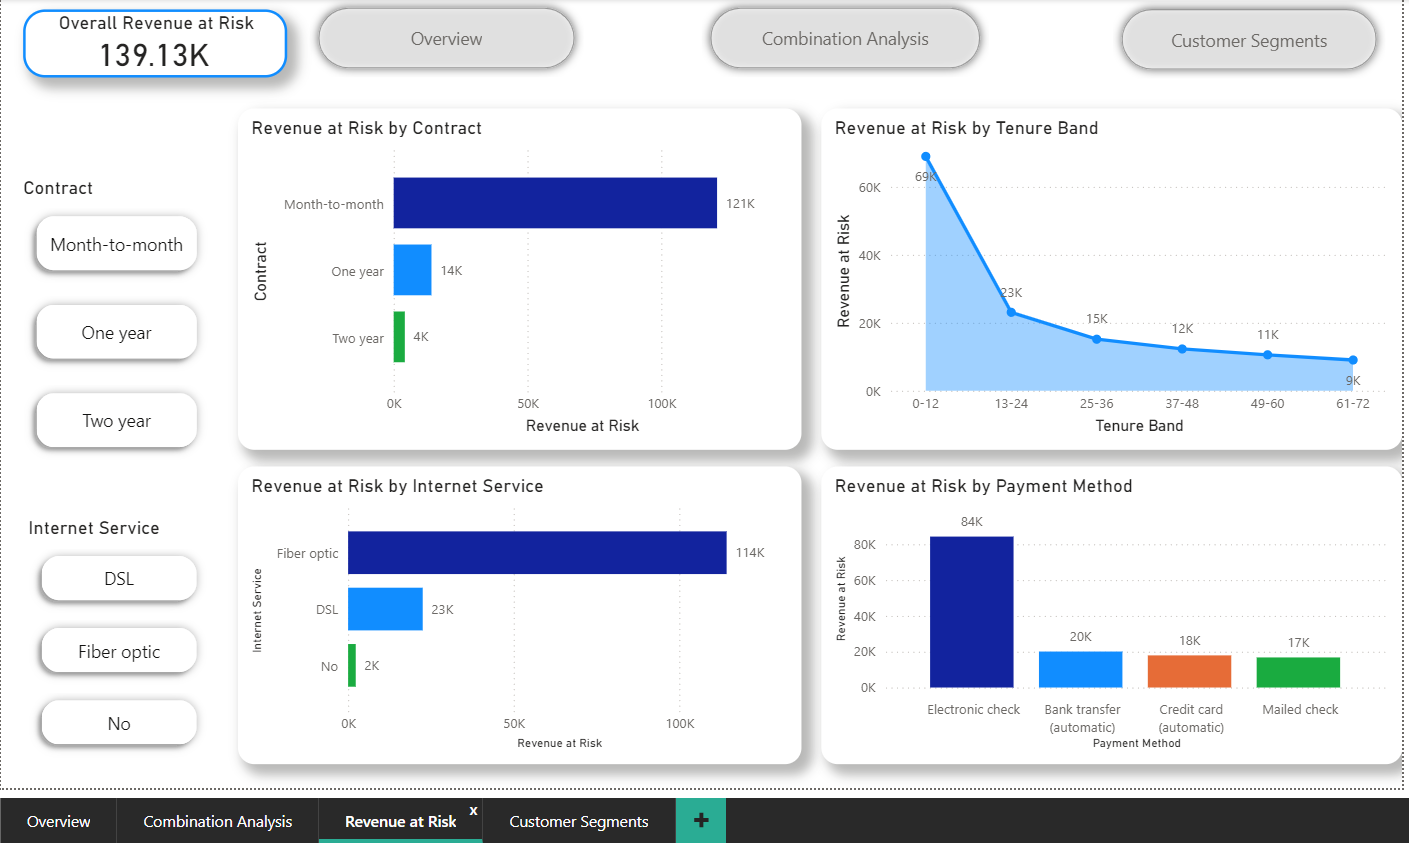

The page's visual inventory and layout, read from the dashboard file:
{"tool":"powerbi","page":{"name":"Revenue at Risk","canvas":[1280,720],"ordinal":2},"visuals":[{"type":"barChart","title":"Revenue at Risk by Contract","fields":{"Category":["TELCO Churn.Contract"],"Y":["_Measures.Revenue at Risk"]},"box":[216.4,100.3,514.7,311.5],"z":0},{"type":"barChart","title":"Revenue at Risk by Internet Service","fields":{"Category":["TELCO Churn.Internet Service"],"Y":["_Measures.Revenue at Risk"]},"box":[216.4,426.3,514.7,271.9],"z":1000},{"type":"areaChart","title":"Revenue at Risk by Tenure Band","fields":{"Category":["TELCO Churn.Tenure Band"],"Y":["TELCO Churn.Revenue_at Risk"]},"box":[749.7,100.3,530.6,311.5],"z":2000},{"type":"columnChart","title":"Revenue at Risk by Payment Method","fields":{"Category":["TELCO Churn.Payment Method"],"Y":["_Measures.Revenue at Risk"]},"box":[749.7,426.3,530.6,271.9],"z":3000},{"type":"advancedSlicerVisual","title":"Contract","fields":{"Values":["TELCO Churn.Contract"]},"box":[15,162.5,180,263.8],"z":4000},{"type":"advancedSlicerVisual","title":"Internet Service","fields":{"Values":["TELCO Churn.Internet Service"]},"box":[20,473.8,175,225],"z":5000},{"type":"actionButton","box":[281.2,0,250,71.2],"z":6000},{"type":"actionButton","box":[1015,1.2,248.8,71.2],"z":7000},{"type":"actionButton","box":[640,0,262.5,71.2],"z":8000},{"type":"kpi","title":"Overall Revenue at Risk","fields":{"Indicator":["_Measures.Revenue at Risk"],"TrendLine":["TELCO Churn.Churn"]},"box":[20,10,241.2,62.5],"z":9000}]}

Visuals, with their boxes on the page's 1280x720 design canvas (x1, y1, x2, y2). These are canvas units, not pixel positions in the 1409x843 screenshot, which may show the page scaled, cropped or inside an application window:
"Revenue at Risk by Contract" barChart: pyautogui.locateOnScreen(216, 100, 731, 412)
"Revenue at Risk by Internet Service" barChart: pyautogui.locateOnScreen(216, 426, 731, 698)
"Revenue at Risk by Tenure Band" areaChart: pyautogui.locateOnScreen(750, 100, 1280, 412)
"Revenue at Risk by Payment Method" columnChart: pyautogui.locateOnScreen(750, 426, 1280, 698)
"Contract" advancedSlicerVisual: pyautogui.locateOnScreen(15, 162, 195, 426)
"Internet Service" advancedSlicerVisual: pyautogui.locateOnScreen(20, 474, 195, 699)
actionButton: pyautogui.locateOnScreen(281, 0, 531, 71)
actionButton: pyautogui.locateOnScreen(1015, 1, 1264, 72)
actionButton: pyautogui.locateOnScreen(640, 0, 902, 71)
"Overall Revenue at Risk" kpi: pyautogui.locateOnScreen(20, 10, 261, 72)
